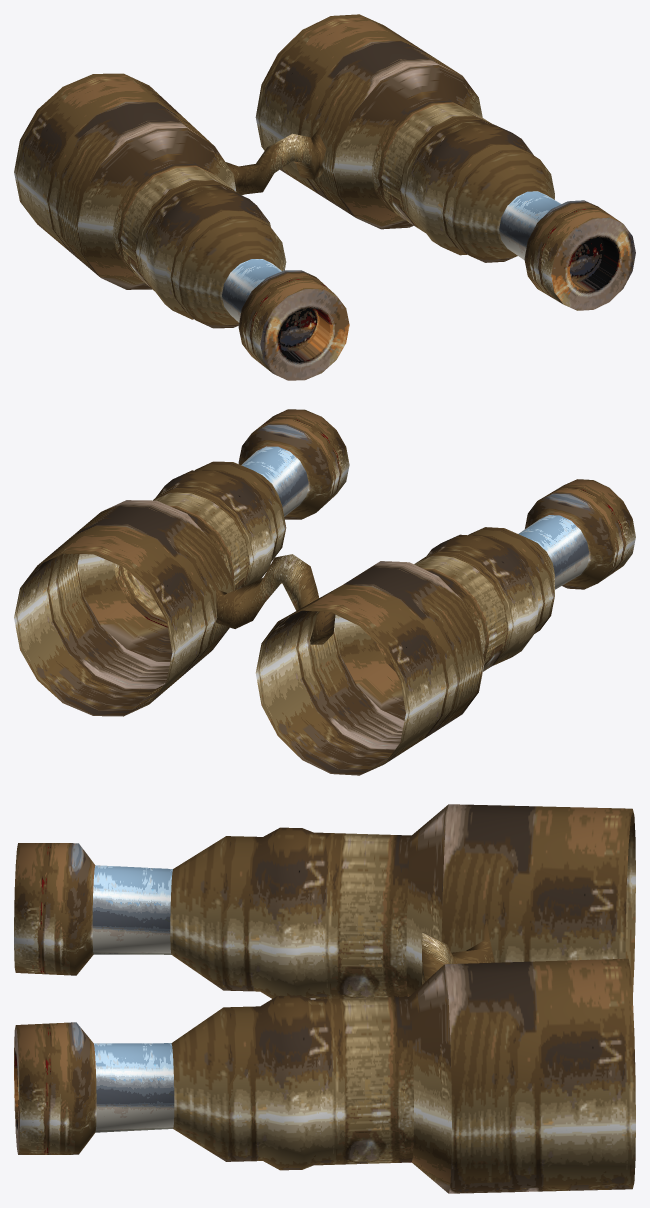
The model's file is SM_Binoculars_00.fbx.
3 views of the same model, one above another, from view 1: azimuth 30°, elevation 25°; view 2: azimuth 150°, elevation 25°; view 3: azimuth 270°, elevation 25° (orthographic). The views are drawn at different scales.
Parts seen in each view (by area): view 1: SM_Binoculars_00; view 2: SM_Binoculars_00; view 3: SM_Binoculars_00.
Part boxes in pixels (x1,y1,x2,y2): SM_Binoculars_00: [14, 14, 635, 380]; SM_Binoculars_00: [14, 409, 635, 775]; SM_Binoculars_00: [14, 804, 635, 1193].
Size of the model in its own units: 21.75 by 8.26 by 22.26.
